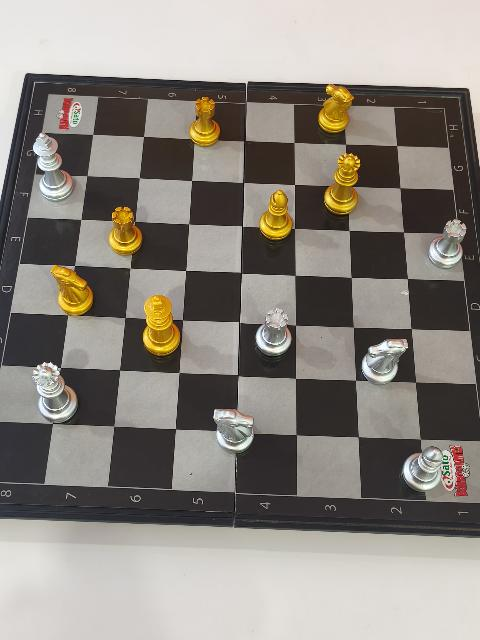black_bishop: (258, 189, 294, 243)
black_king: (142, 294, 181, 359)
black_knight: (49, 264, 95, 319), (317, 86, 355, 135)
black_queen: (323, 154, 362, 217)
black_rook: (108, 206, 143, 258), (188, 96, 221, 149)
white_bishop: (401, 446, 452, 495)
white_king: (32, 133, 75, 202)
white_knight: (360, 339, 409, 387), (212, 408, 257, 458)
white_queen: (32, 362, 79, 426)
white_rook: (427, 219, 468, 271), (254, 309, 294, 361)
